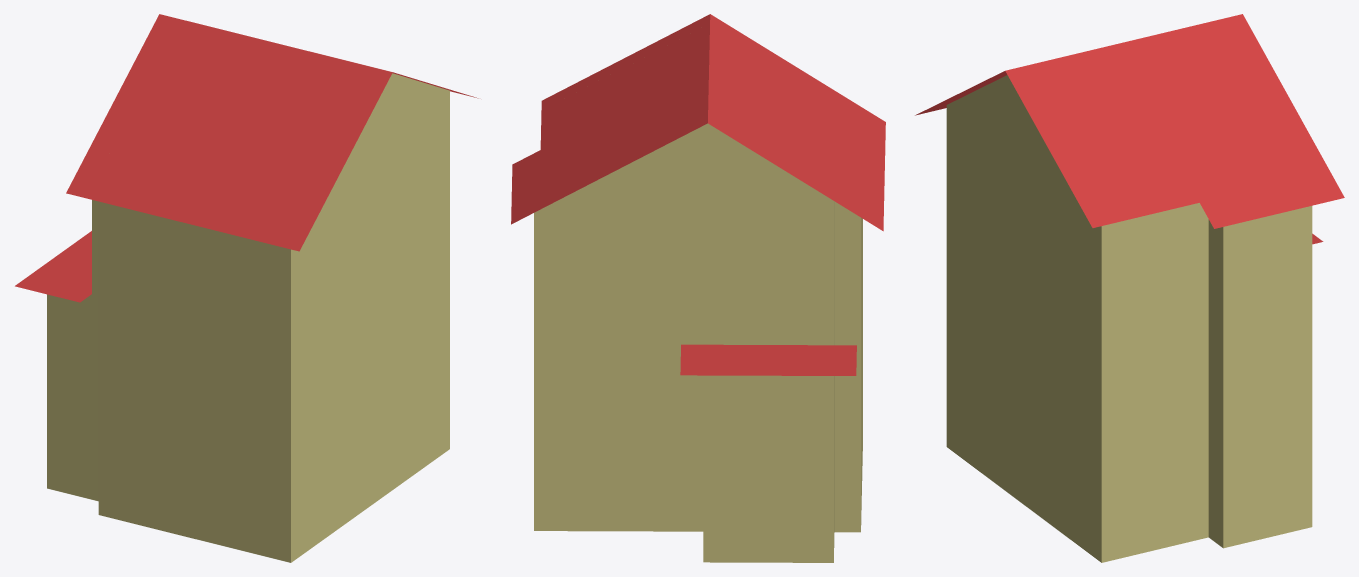
The picture shows the model from 3 angles, left to right: view 1: azimuth 30°, elevation 25°; view 2: azimuth 150°, elevation 25°; view 3: azimuth 270°, elevation 25°; orthographic projection. The views are drawn at different scales.
Parts seen in each view (by area): view 1: group_5, group_3, group_9, group_7, group_4; view 2: group_5, group_3, group_9, group_7, group_4, group_8; view 3: group_5, group_3, group_4.
Part boxes in pixels (x1,y1,x2,y2): group_5: (92, 73, 449, 562); group_3: (66, 14, 478, 251); group_9: (47, 294, 91, 499); group_7: (15, 231, 91, 302); group_4: (66, 143, 164, 193); group_5: (534, 123, 862, 532); group_3: (511, 14, 885, 230); group_9: (703, 375, 834, 562); group_7: (680, 344, 856, 375); group_4: (511, 14, 882, 230); group_8: (680, 344, 856, 375); group_5: (946, 75, 1312, 562); group_3: (1026, 14, 1344, 228); group_4: (915, 18, 1342, 228).
Bounding box in the file's own units: 14.54 × 13.51 × 15.25.
